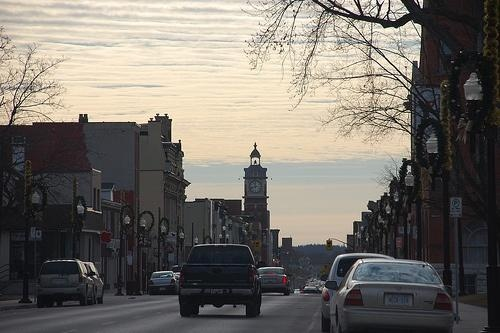car: (327, 259, 454, 332), (178, 245, 263, 319), (321, 253, 397, 333), (36, 262, 94, 309), (258, 266, 293, 296), (149, 271, 179, 295)
